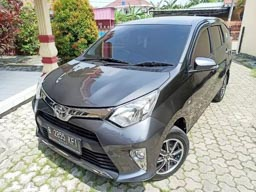plat: (47, 125, 81, 158)
